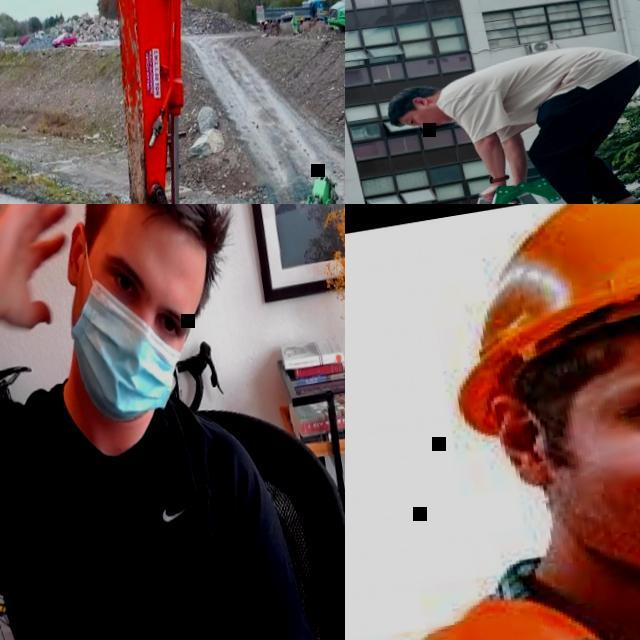helmet: (429, 204, 640, 445)
vest: (345, 519, 640, 640)
